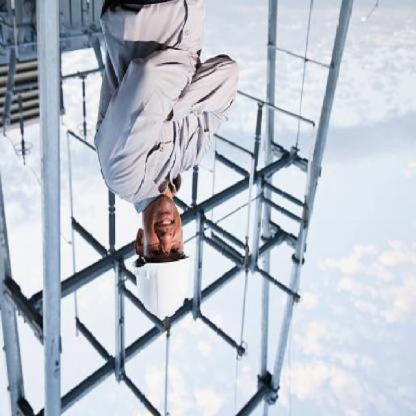white: (132, 247, 195, 324)
